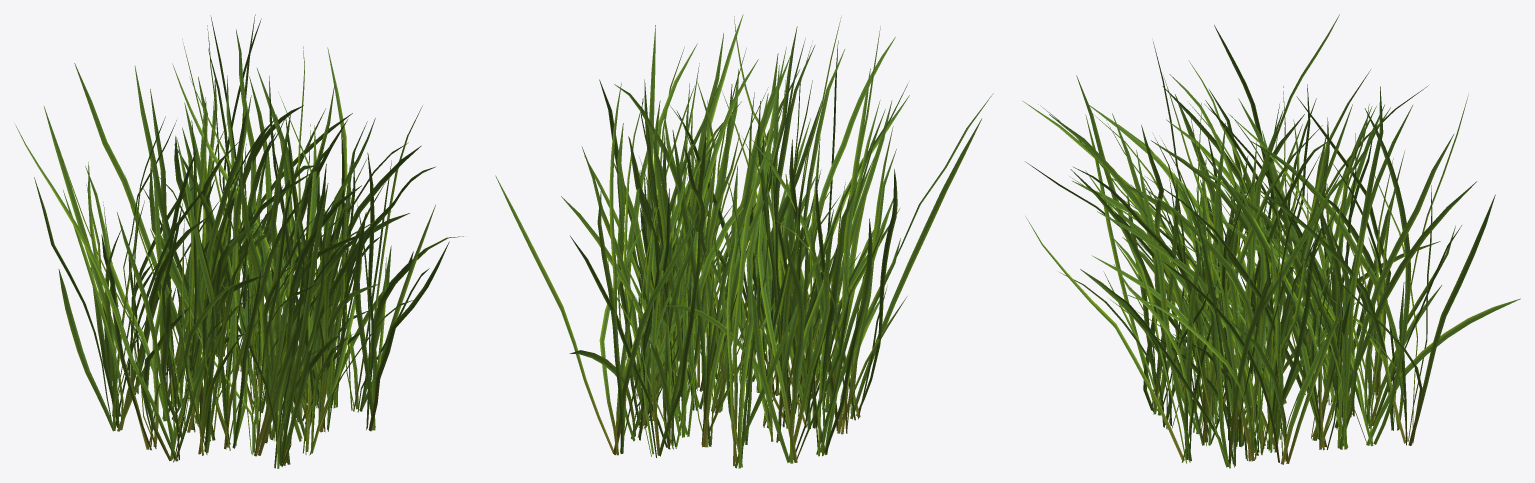
File: mata_1.glb
3 renders of one model, left to right at view 1: azimuth 30°, elevation 25°; view 2: azimuth 150°, elevation 25°; view 3: azimuth 270°, elevation 25°, orthographic.
Visible parts, largest first — view 1: Wild Grass Patch 2; view 2: Wild Grass Patch 2; view 3: Wild Grass Patch 2.
Boxes of the visible parts, x1=… form: Wild Grass Patch 2: x1=15, y1=14, x2=463, y2=468; Wild Grass Patch 2: x1=495, y1=14, x2=993, y2=468; Wild Grass Patch 2: x1=1023, y1=14, x2=1520, y2=468.
Bounding box in the file's own units: 0.9272 × 0.9029 × 1.18.
2 materials, 2 textured.
